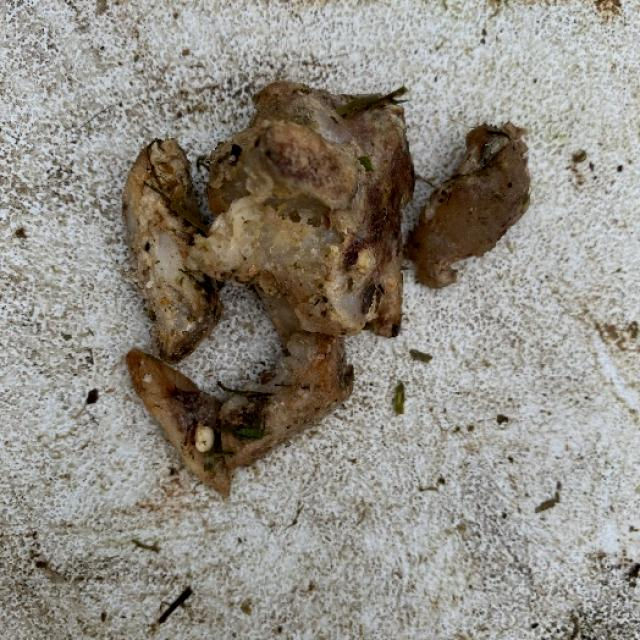wet: (152, 90, 421, 264), (194, 383, 269, 473), (397, 346, 437, 416)
